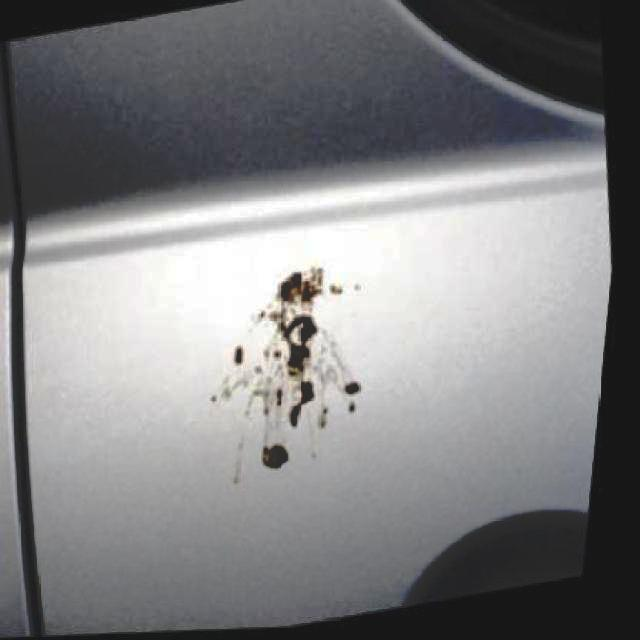Bird Poop: (211, 268, 360, 468), (233, 435, 243, 483)
